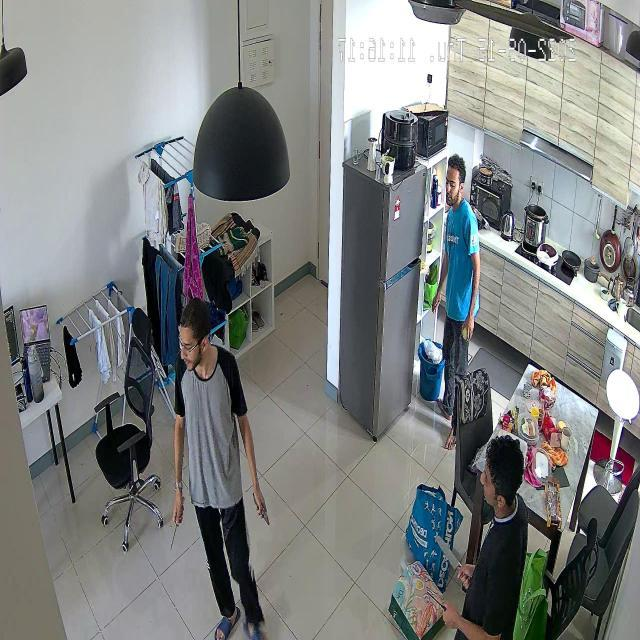Knife: (433, 532, 469, 578), (168, 491, 191, 562)
